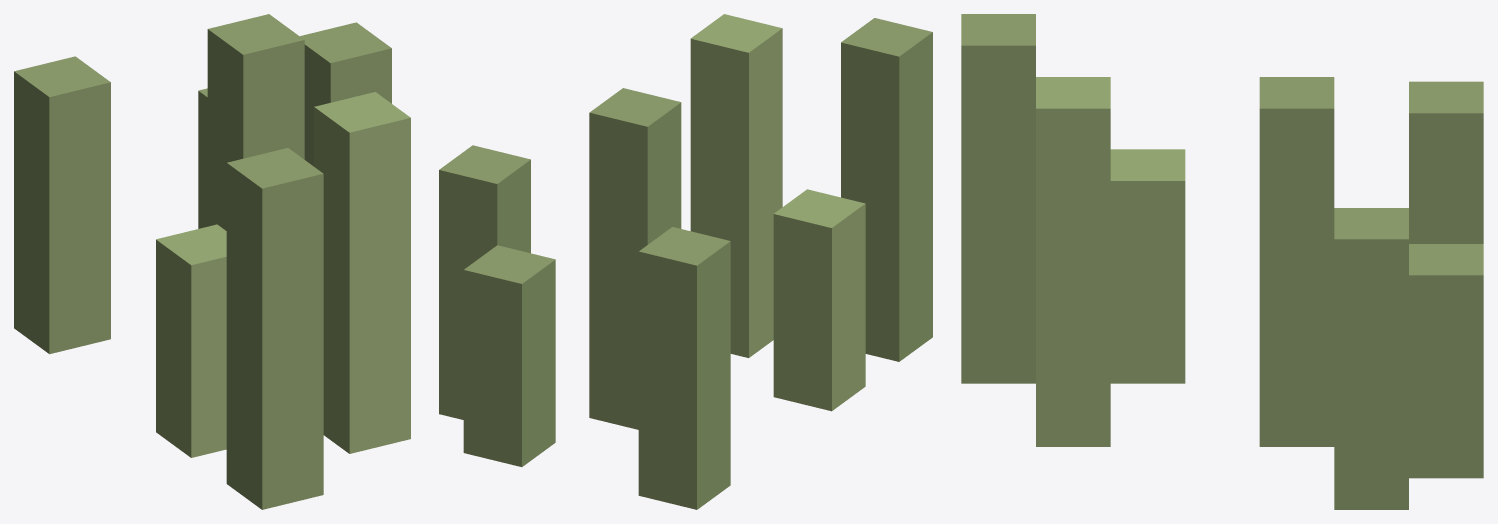
Rendered from junco_03.glb.
3 views of the same model, side by side, from view 1: azimuth 30°, elevation 25°; view 2: azimuth 150°, elevation 25°; view 3: azimuth 270°, elevation 25° (orthographic). The views are drawn at different scales.
Parts seen in each view (by area): view 1: junco_03; view 2: junco_03; view 3: junco_03.
Boxes of the visible parts, x1,y1,x2,y2 form: junco_03: (14,14,410,509); junco_03: (439,14,932,509); junco_03: (961,14,1483,509).
Size of the model in its own units: 0.5 by 0.5 by 0.7.
